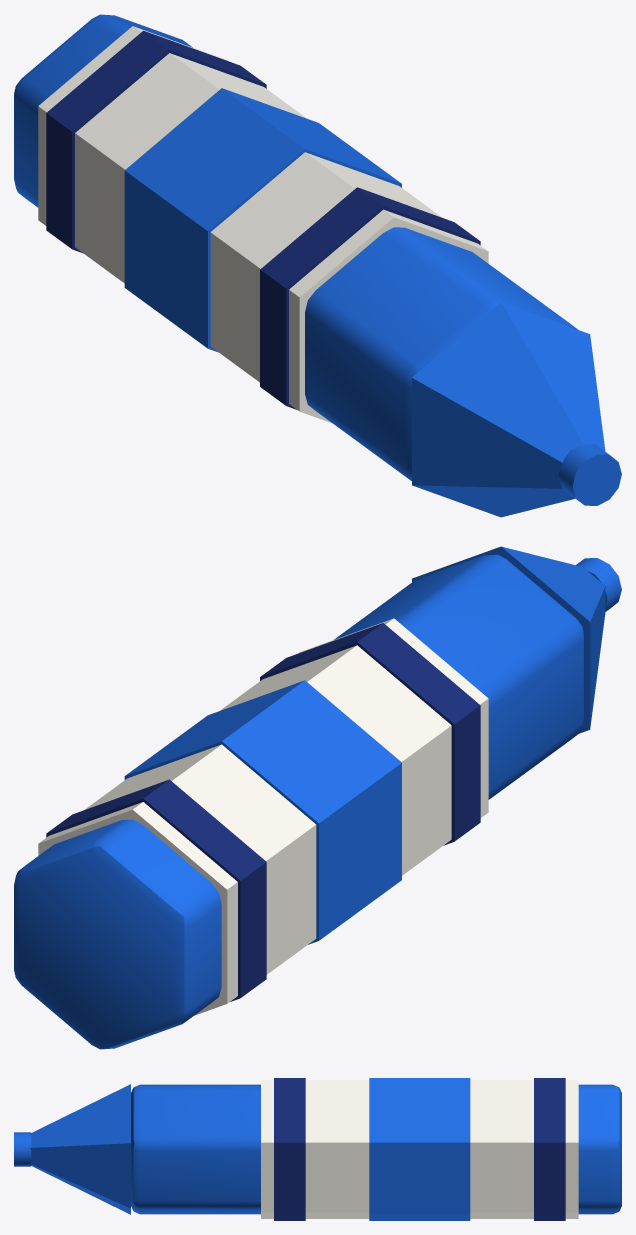
The model's file is crayon.glb.
3 views of the same model, one above another, from view 1: azimuth 30°, elevation 25°; view 2: azimuth 150°, elevation 25°; view 3: azimuth 270°, elevation 25° (orthographic). The views are drawn at different scales.
Visible parts, largest first — view 1: crayon; view 2: crayon; view 3: crayon.
Boxes of the visible parts, x1,y1,x2,y2 form: crayon: (14,14,621,517); crayon: (14,546,621,1049); crayon: (14,1078,621,1220).
Bounding box in the file's own units: 0.944 × 1.09 × 4.21.
